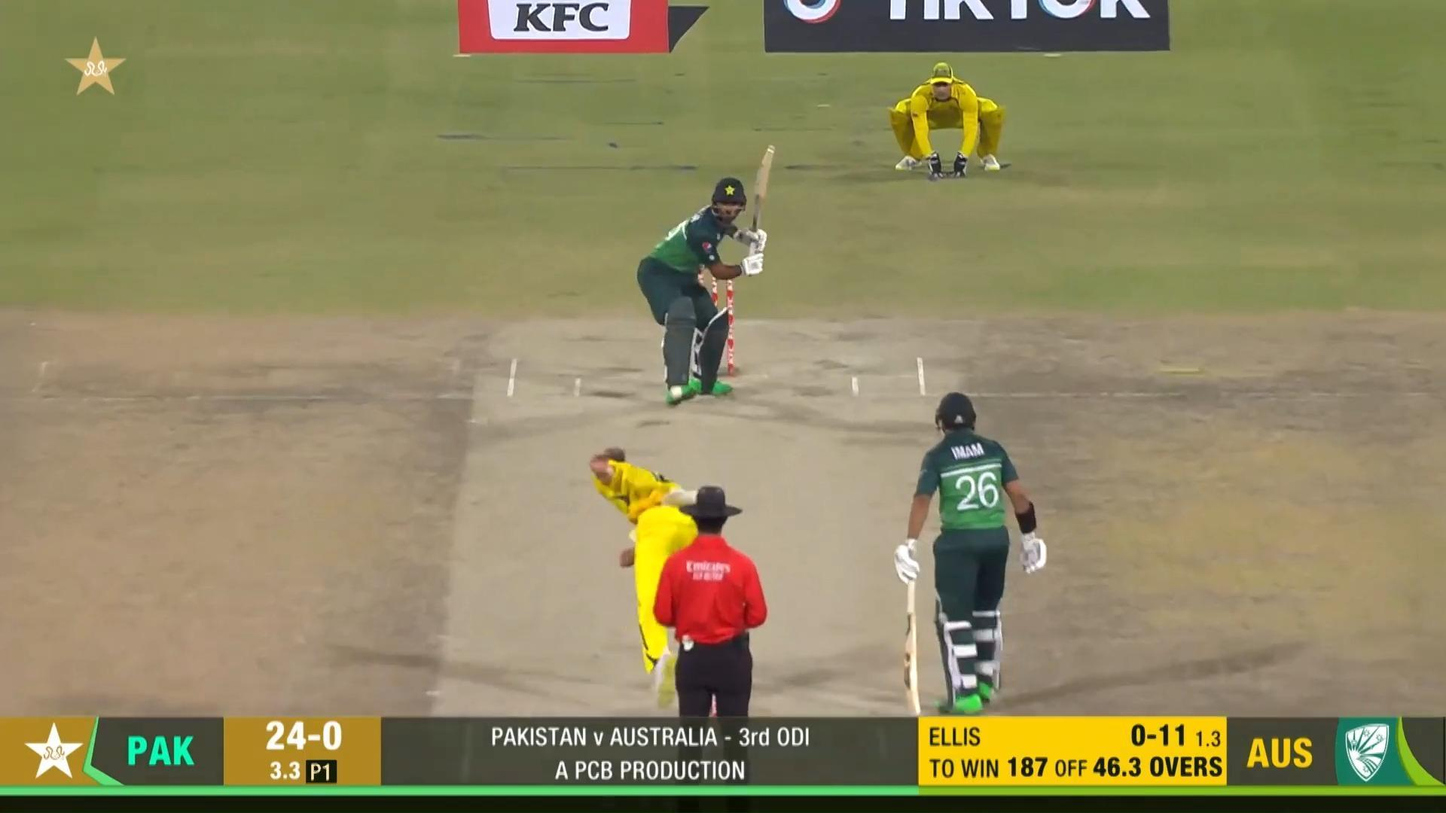BM 1: (637, 143, 776, 406)
BO: (588, 445, 722, 709)
